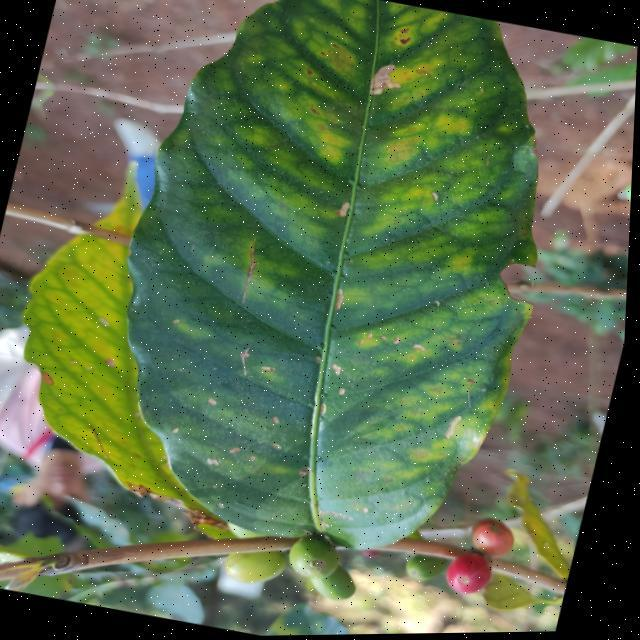leaves: (90, 0, 574, 567)
